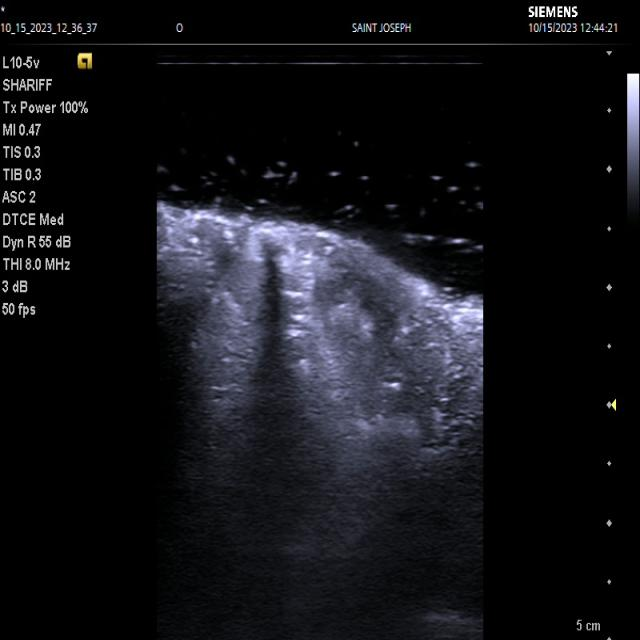tissue: (188, 216, 377, 573)
